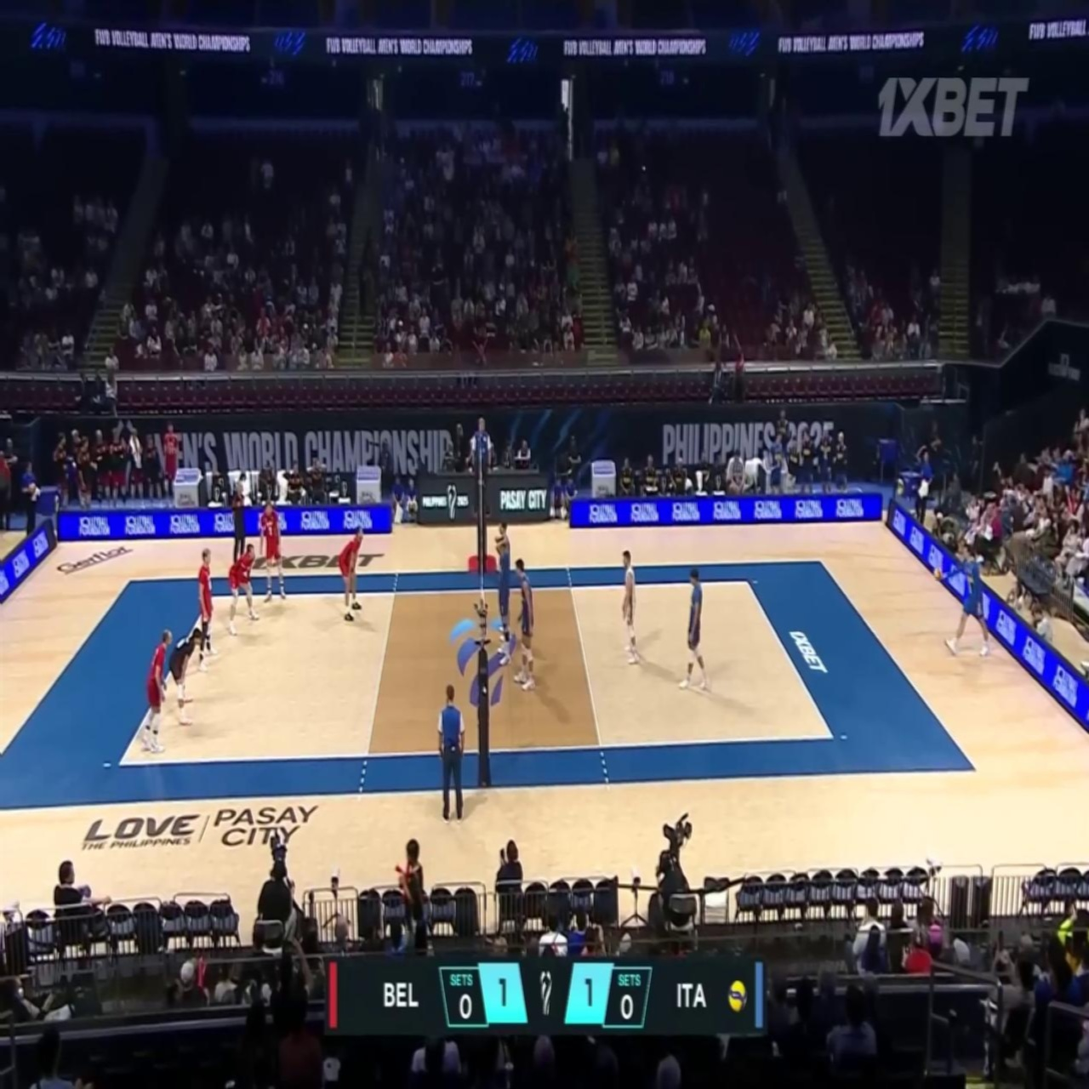ball: (934, 567, 942, 581)
